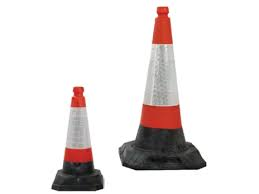cones: (124, 7, 205, 171), (46, 81, 108, 192)
